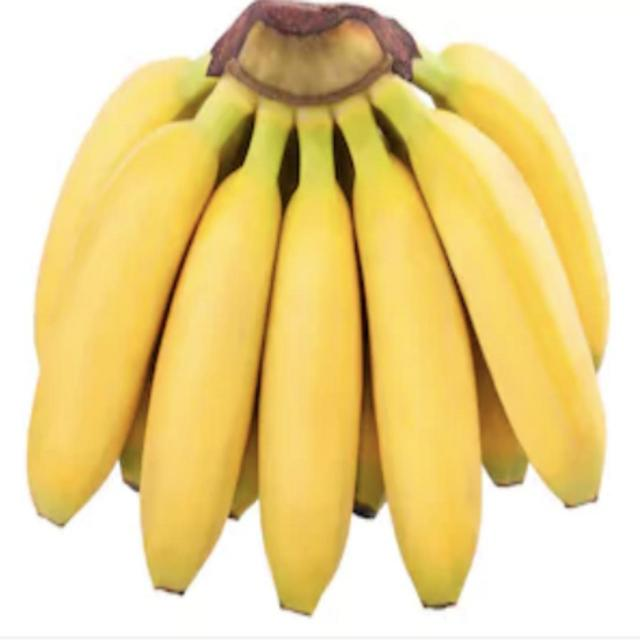banana: (328, 63, 523, 618), (400, 53, 625, 513), (404, 19, 638, 422), (44, 97, 194, 599), (246, 54, 370, 620), (148, 110, 278, 596)
